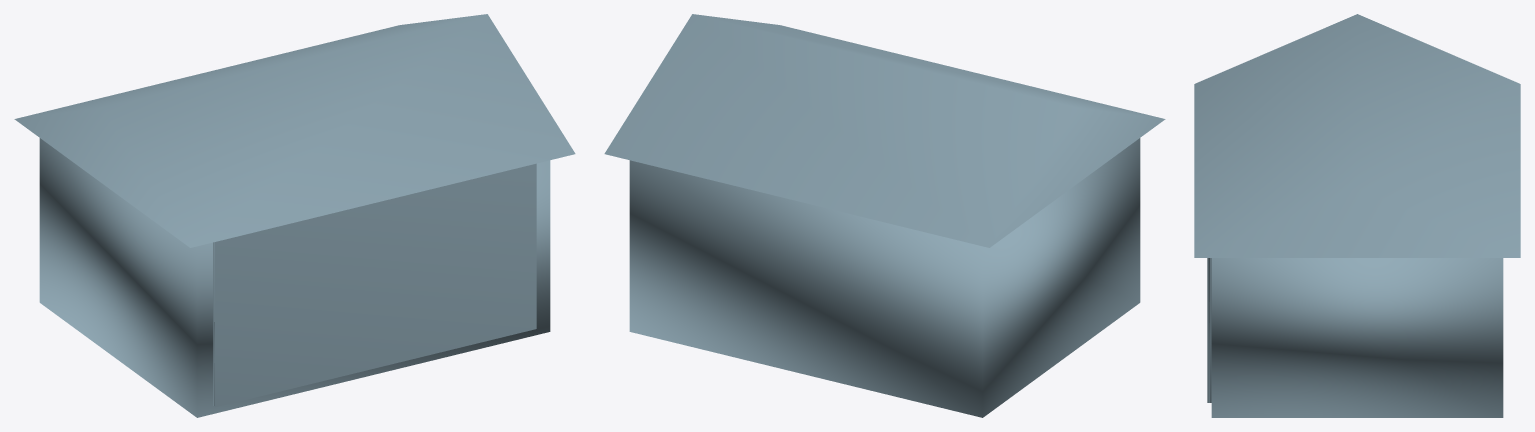
File: greenhouse.obj
3 views of the same model, side by side, from view 1: azimuth 30°, elevation 25°; view 2: azimuth 150°, elevation 25°; view 3: azimuth 270°, elevation 25° (orthographic). The views are drawn at different scales.
Size of the model in its own units: 4.8 by 3.05 by 3.8.
